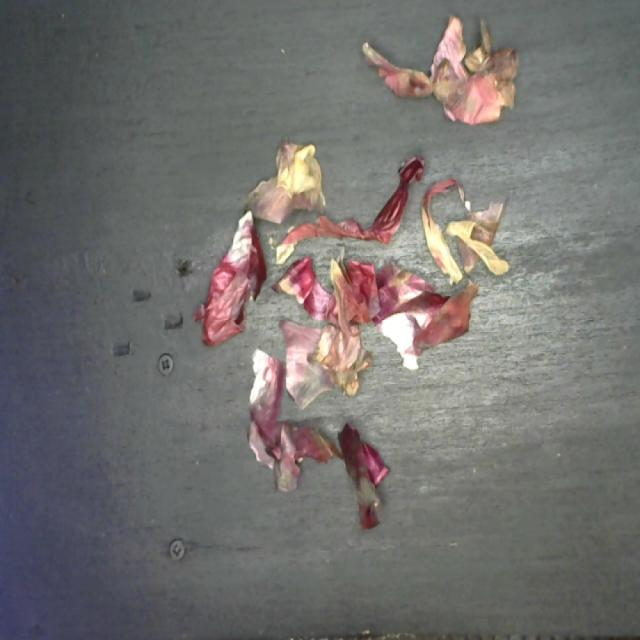biodegradable: (196, 12, 520, 541)
